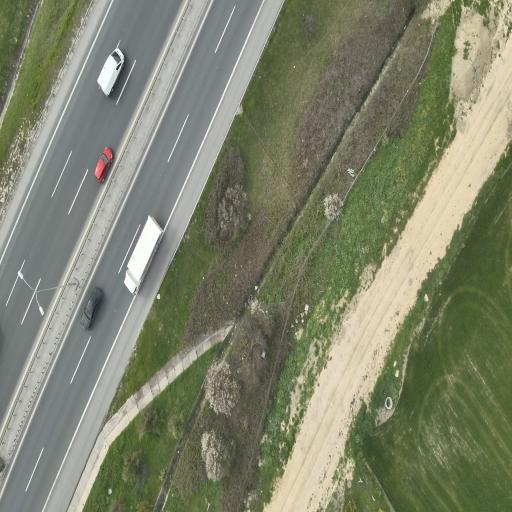car: (125, 215, 163, 293), (98, 48, 124, 96), (81, 287, 102, 329), (95, 147, 112, 181)
